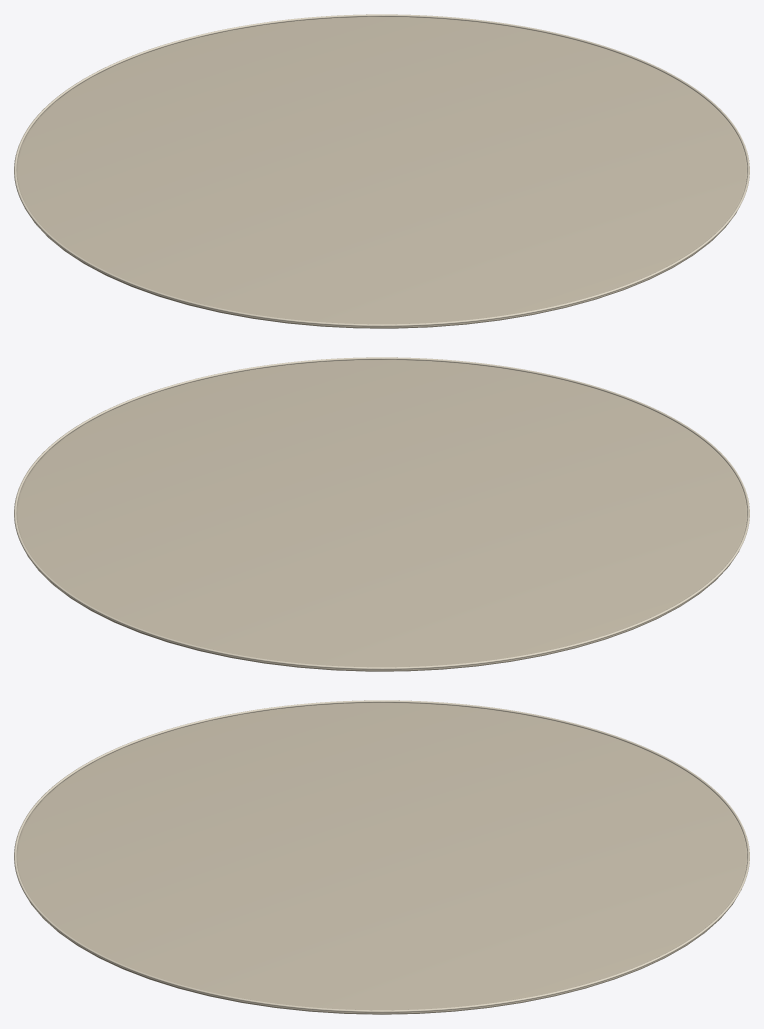
File: central-quiet-central-local.glb
The picture shows the model from 3 angles, top to bottom: view 1: azimuth 30°, elevation 25°; view 2: azimuth 150°, elevation 25°; view 3: azimuth 270°, elevation 25°; orthographic projection.
Parts seen in each view (by area): view 1: part_00000; view 2: part_00000; view 3: part_00000.
Part boxes in pixels (x1,y1,x2,y2): part_00000: (14, 14, 749, 328); part_00000: (14, 357, 749, 671); part_00000: (14, 700, 749, 1014).
Size of the model in its own units: 5.62 by 0.042 by 5.62.
